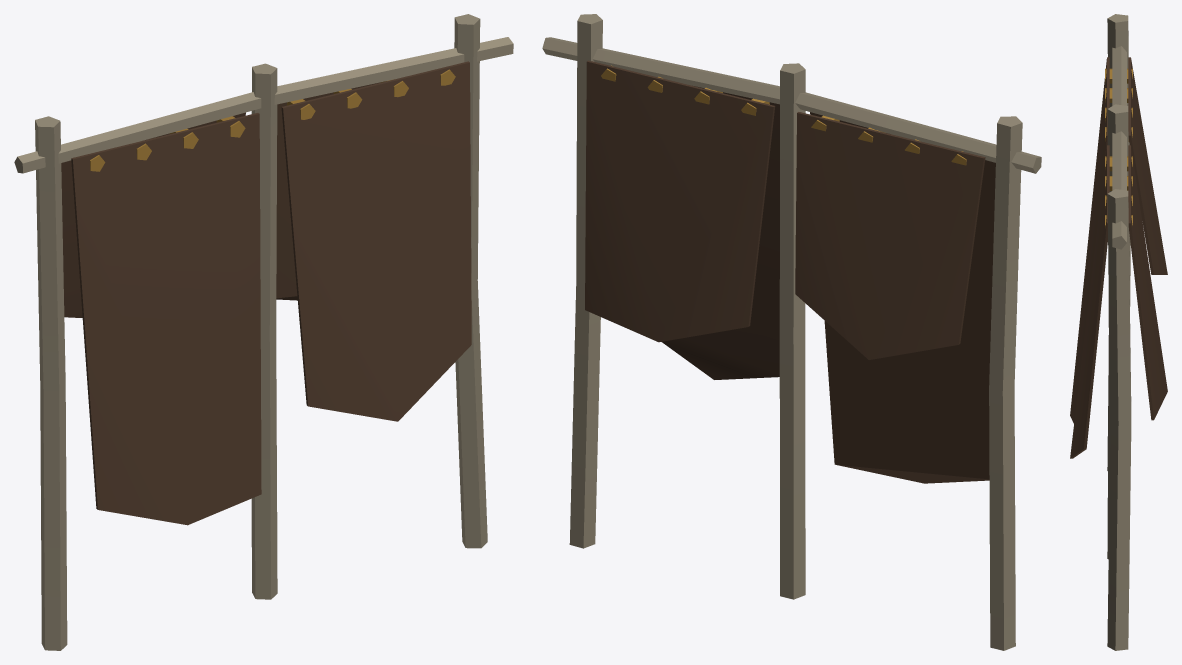
Rendered from NetRack.fbx.
The picture shows the model from 3 angles, left to right: view 1: azimuth 30°, elevation 25°; view 2: azimuth 150°, elevation 25°; view 3: azimuth 270°, elevation 25°; orthographic projection. The views are drawn at different scales.
Parts seen in each view (by area): view 1: NetRack; view 2: NetRack; view 3: NetRack.
Boxes of the visible parts, x1,y1,x2,y2 form: NetRack: [14, 14, 513, 650]; NetRack: [542, 14, 1041, 650]; NetRack: [1070, 14, 1167, 650].
Size of the model in its own units: 2.1 by 2.15 by 0.424.
